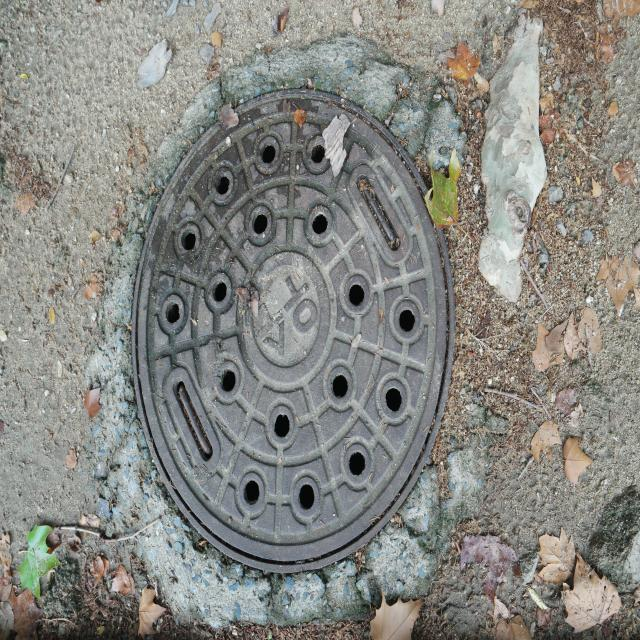manhole: (134, 90, 454, 572)
